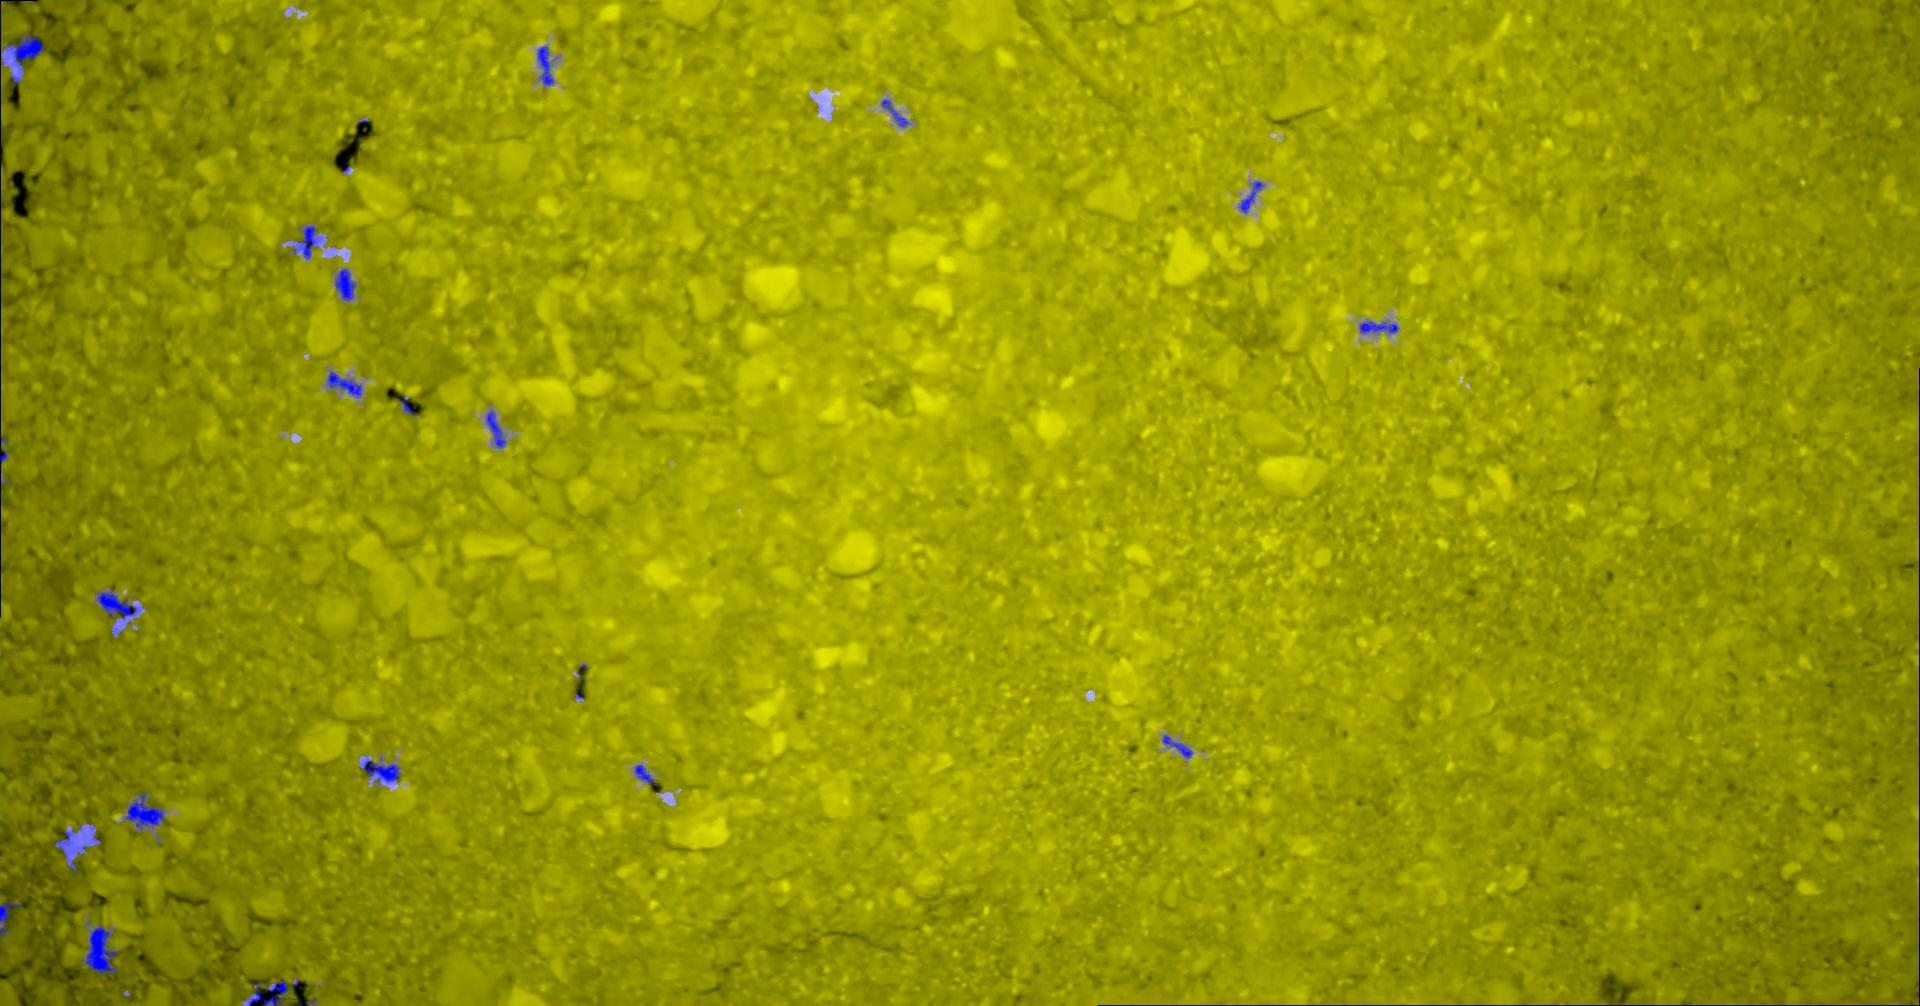ant: (85, 925, 117, 973), (124, 793, 164, 829), (5, 32, 43, 69), (97, 587, 138, 619), (243, 981, 290, 1005), (292, 225, 320, 258), (361, 758, 399, 782), (328, 371, 361, 398), (1238, 180, 1262, 212), (485, 410, 505, 447), (880, 99, 908, 126), (0, 901, 22, 935), (1162, 734, 1192, 757), (334, 268, 356, 300), (53, 829, 76, 856), (537, 46, 552, 85), (634, 763, 657, 785), (1359, 320, 1397, 333), (396, 395, 413, 413)
